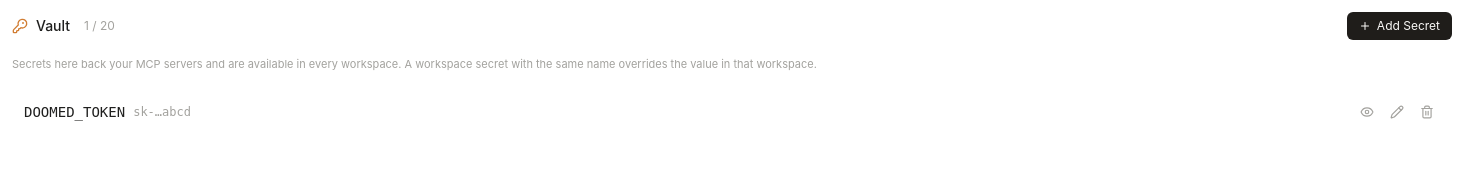
it: SecretsManager via the user vault adapter — delete › cancels the confirm without deleting
What coordinates should you click on to do the following:
click the button titled "Delete"
I would click on:
 (1427, 112)
Its box is [1414,98,1440,124].
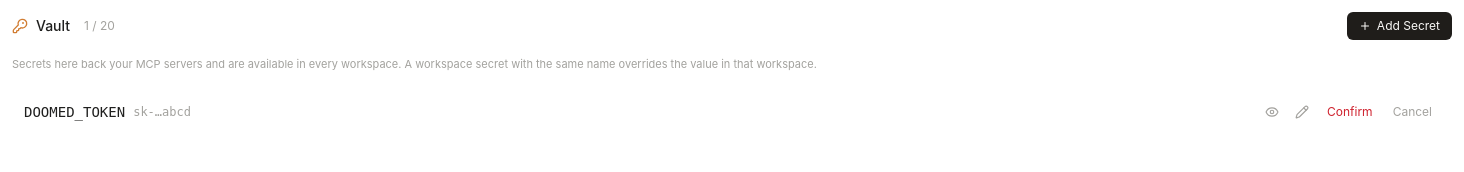
What coordinates should you click on to do the following:
click the button "Cancel"
I would click on:
 (1412, 112)
Its box is [1385,100,1440,124].
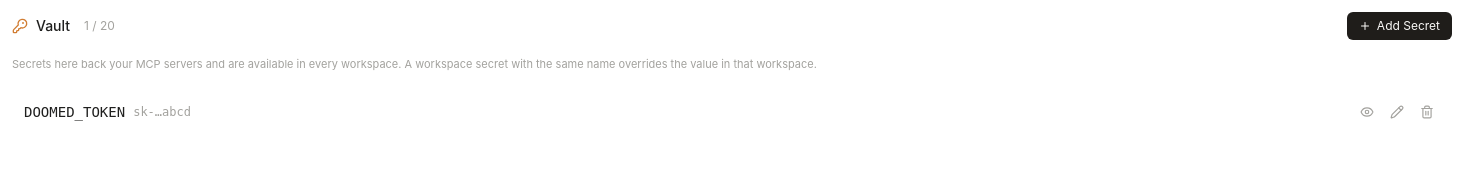
Result: the button "Confirm" is gone
